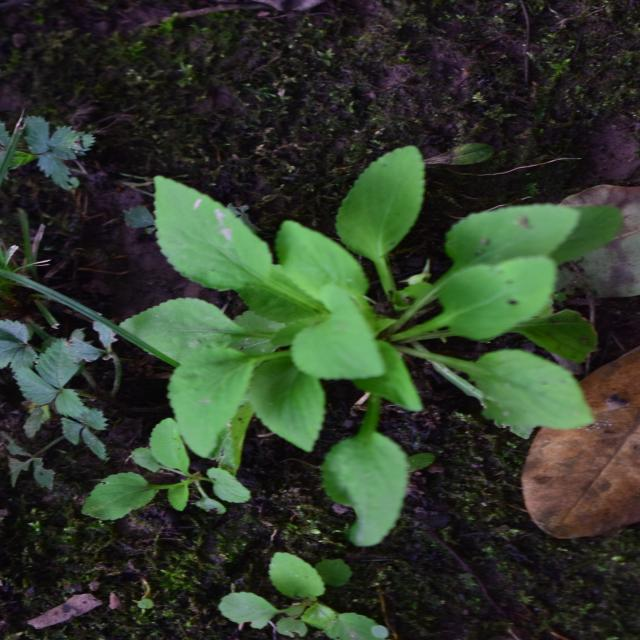Viola: (188, 117, 485, 591)
